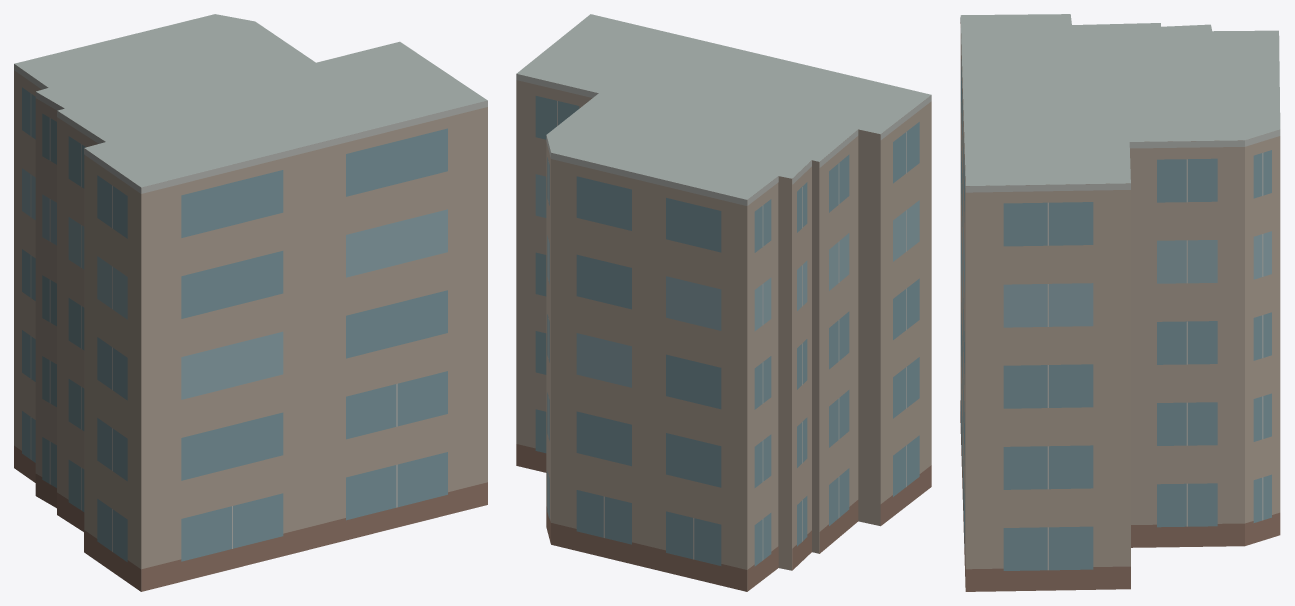
The model's file is survey-upis-32585611.glb.
3 renders of one model, left to right at view 1: azimuth 30°, elevation 25°; view 2: azimuth 150°, elevation 25°; view 3: azimuth 270°, elevation 25°, orthographic. The views are drawn at different scales.
Parts seen in each view (by area): view 1: survey-upis-32585611.tmp; view 2: survey-upis-32585611.tmp; view 3: survey-upis-32585611.tmp.
Part boxes in pixels (left/top/right/bottom): survey-upis-32585611.tmp: left=14, top=14, right=487, bottom=591; survey-upis-32585611.tmp: left=516, top=14, right=931, bottom=591; survey-upis-32585611.tmp: left=960, top=14, right=1280, bottom=591.
Size of the model in its own units: 13.88 by 15.25 by 10.9.
